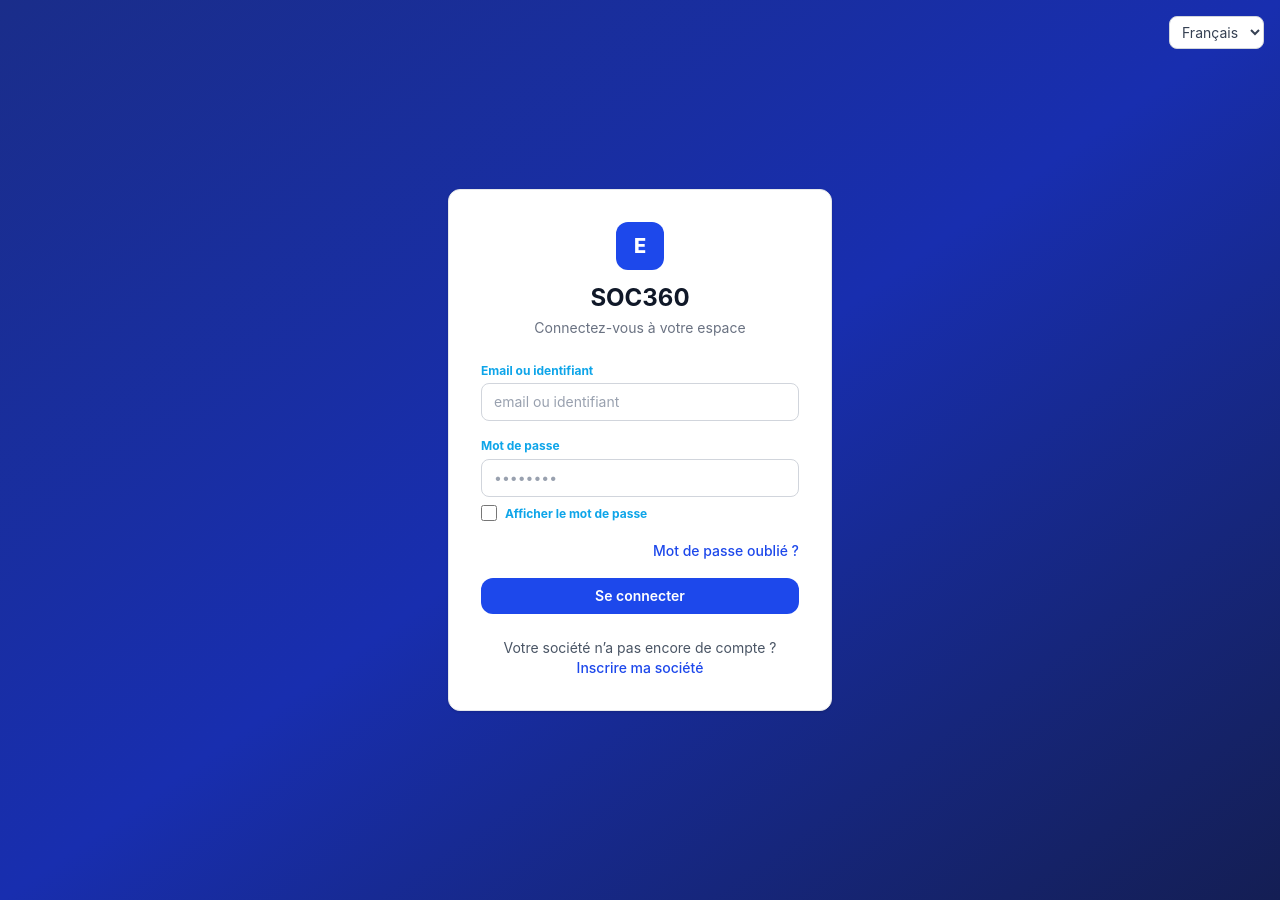
Login › affiche un message générique pour une erreur inattendue
The image size is (1280, 900).
Type "alice" into the field with placeholder "email ou identifiant".
click(640, 402); type("alice")  # box [481, 383, 799, 421]
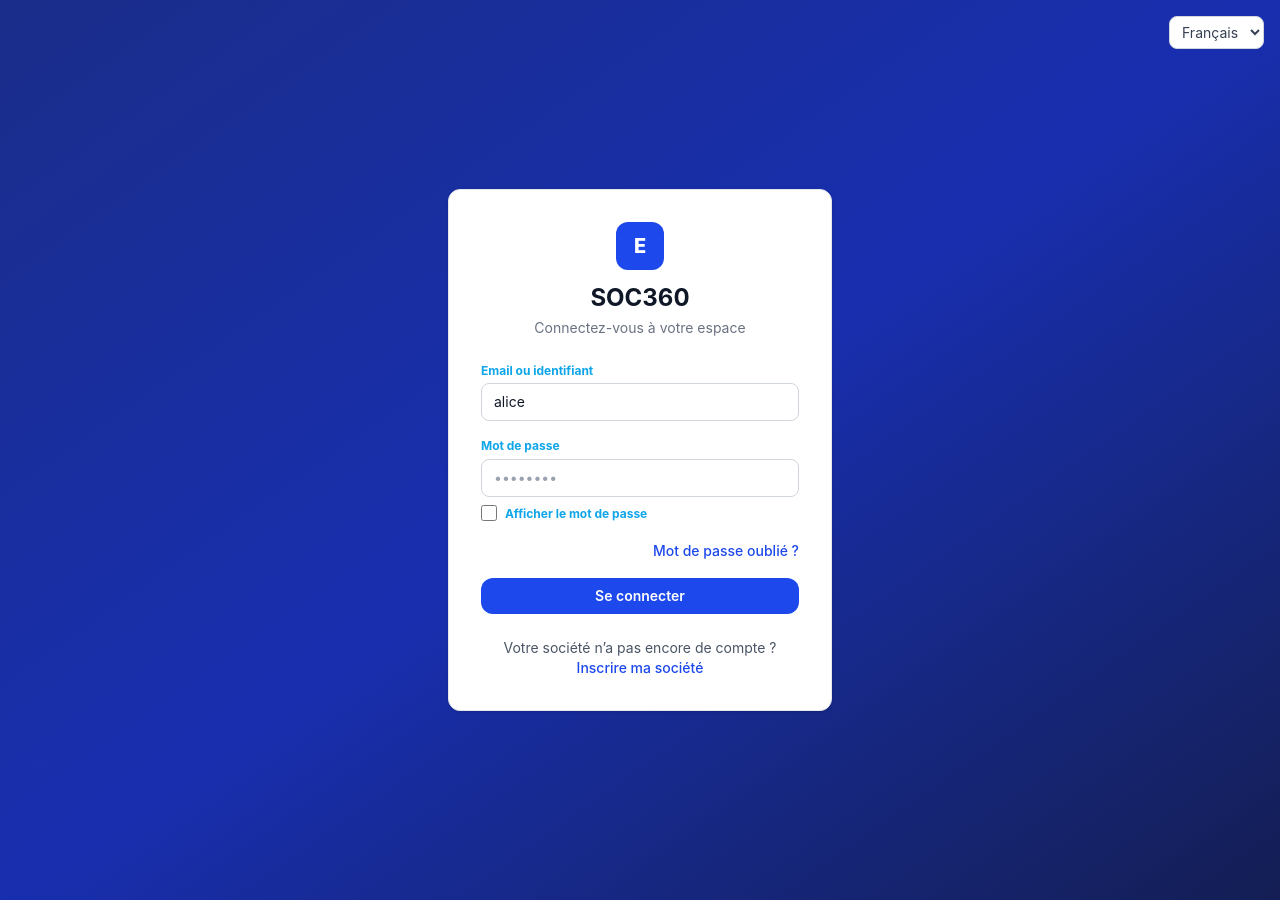
Type "secret" into the password field with placeholder "••••••••".
click(640, 478); type("secret")  # box [481, 459, 799, 497]
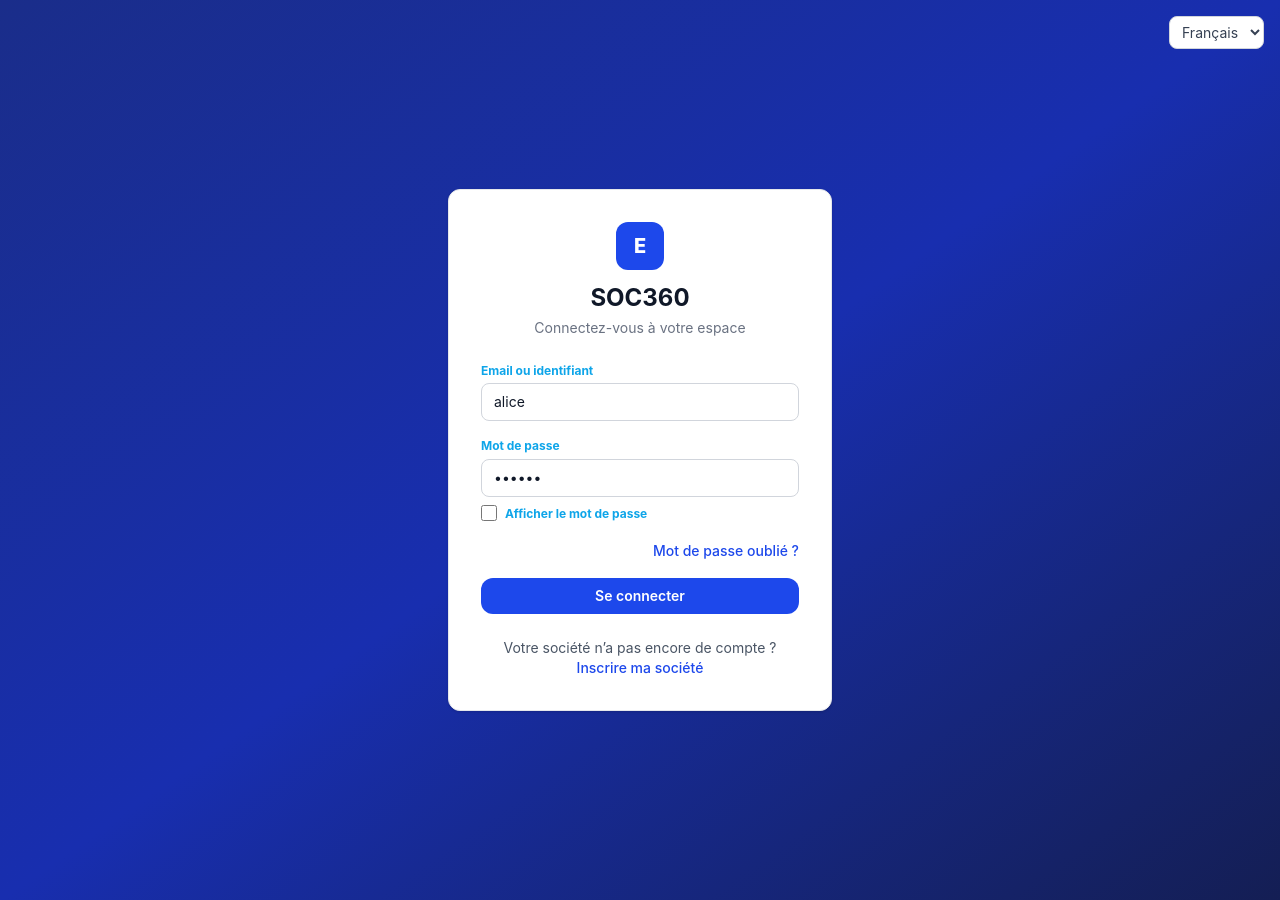
Submit the form named "Se connecter", box [481, 362, 799, 614]
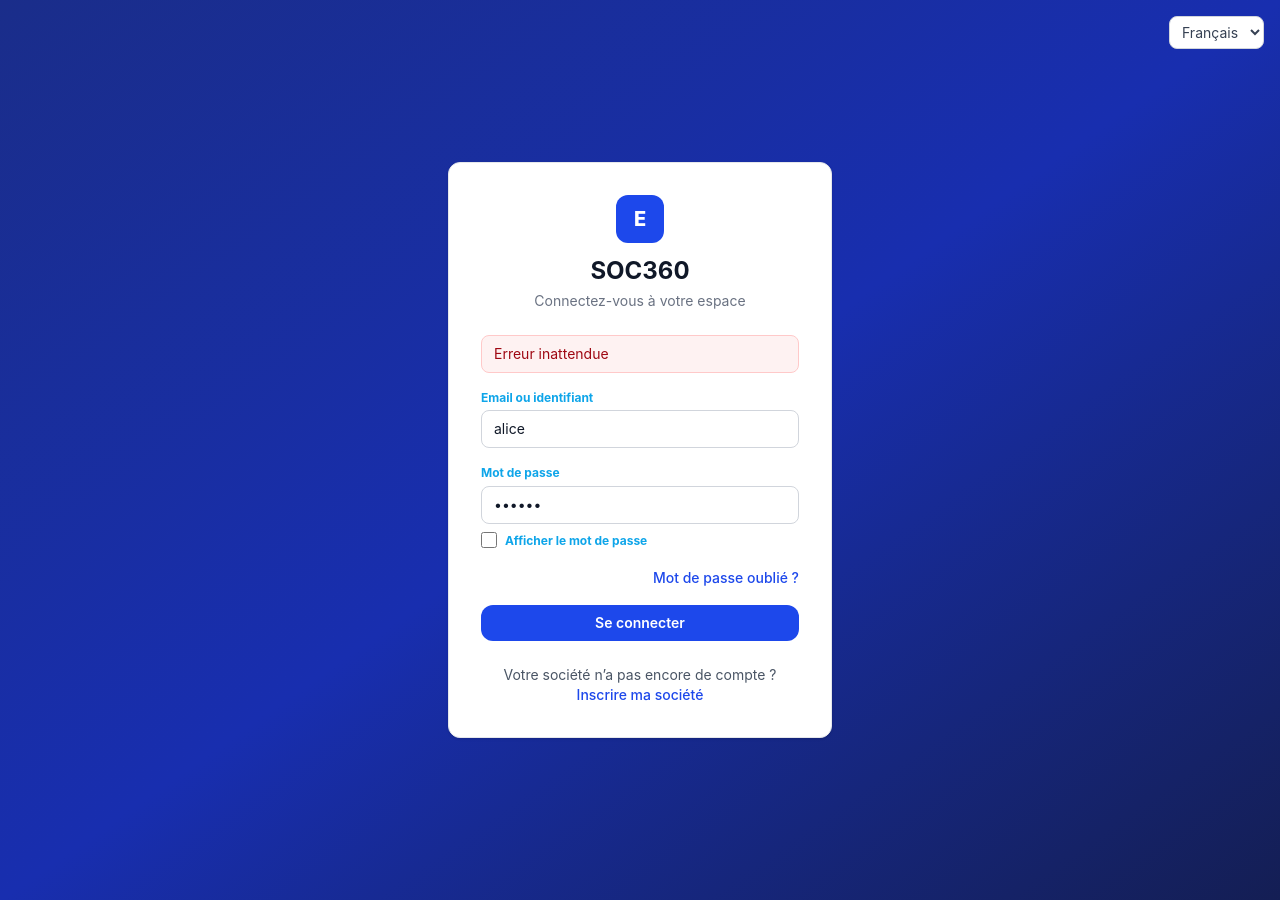
Result: the text "Erreur inattendue" is shown at [481, 335, 799, 373]
